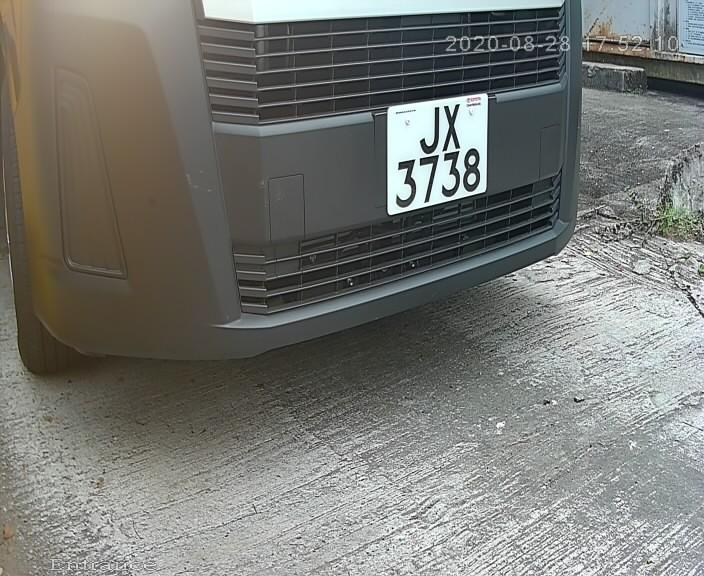License Plate: (371, 88, 506, 227)
